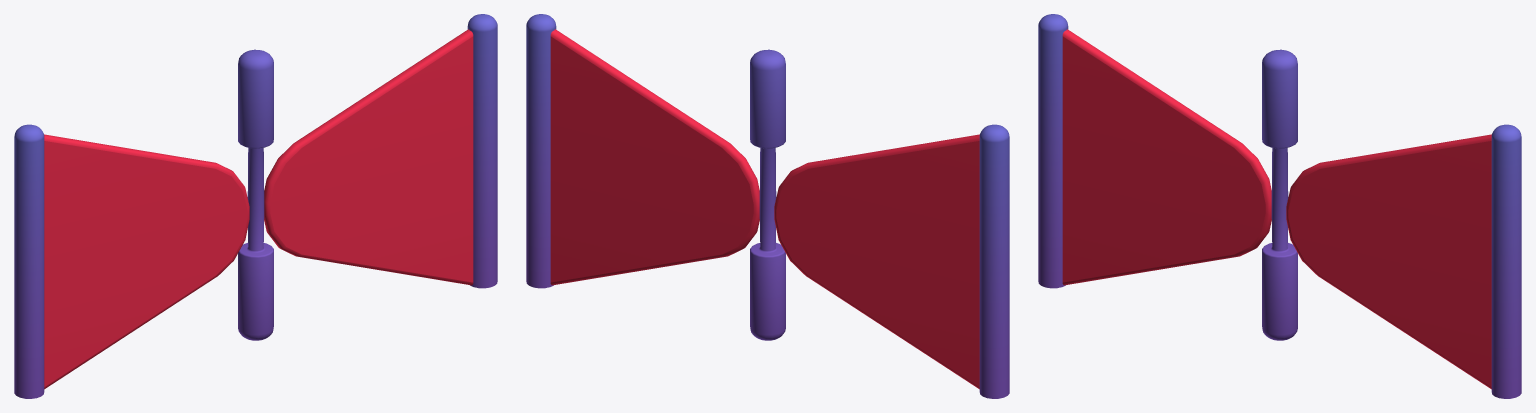
File: Obs_14.fbx
The picture shows the model from 3 angles, left to right: view 1: azimuth 30°, elevation 25°; view 2: azimuth 150°, elevation 25°; view 3: azimuth 330°, elevation 25°; orthographic projection.
Parts seen in each view (by area): view 1: Obs_14_Left_01, Obs_14_Right, Obs_14_Right_01, Obs_14_Main, Obs_14_Left; view 2: Obs_14_Left_01, Obs_14_Right, Obs_14_Right_01, Obs_14_Main, Obs_14_Left; view 3: Obs_14_Right, Obs_14_Left_01, Obs_14_Left, Obs_14_Main, Obs_14_Right_01.
Part boxes in pixels (<box>): Obs_14_Left_01: <box>264,29,473,285</box>; Obs_14_Right: <box>44,134,249,389</box>; Obs_14_Right_01: <box>14,124,44,398</box>; Obs_14_Main: <box>238,49,273,340</box>; Obs_14_Left: <box>467,14,497,288</box>; Obs_14_Left_01: <box>550,29,759,285</box>; Obs_14_Right: <box>774,134,979,389</box>; Obs_14_Right_01: <box>979,124,1009,398</box>; Obs_14_Main: <box>750,49,785,340</box>; Obs_14_Left: <box>526,14,556,288</box>; Obs_14_Right: <box>1062,29,1271,285</box>; Obs_14_Left_01: <box>1286,134,1491,389</box>; Obs_14_Left: <box>1491,124,1521,398</box>; Obs_14_Main: <box>1262,49,1297,340</box>; Obs_14_Right_01: <box>1038,14,1068,288</box>.
Size of the model in its own units: 5 by 2.83 by 0.3271.
